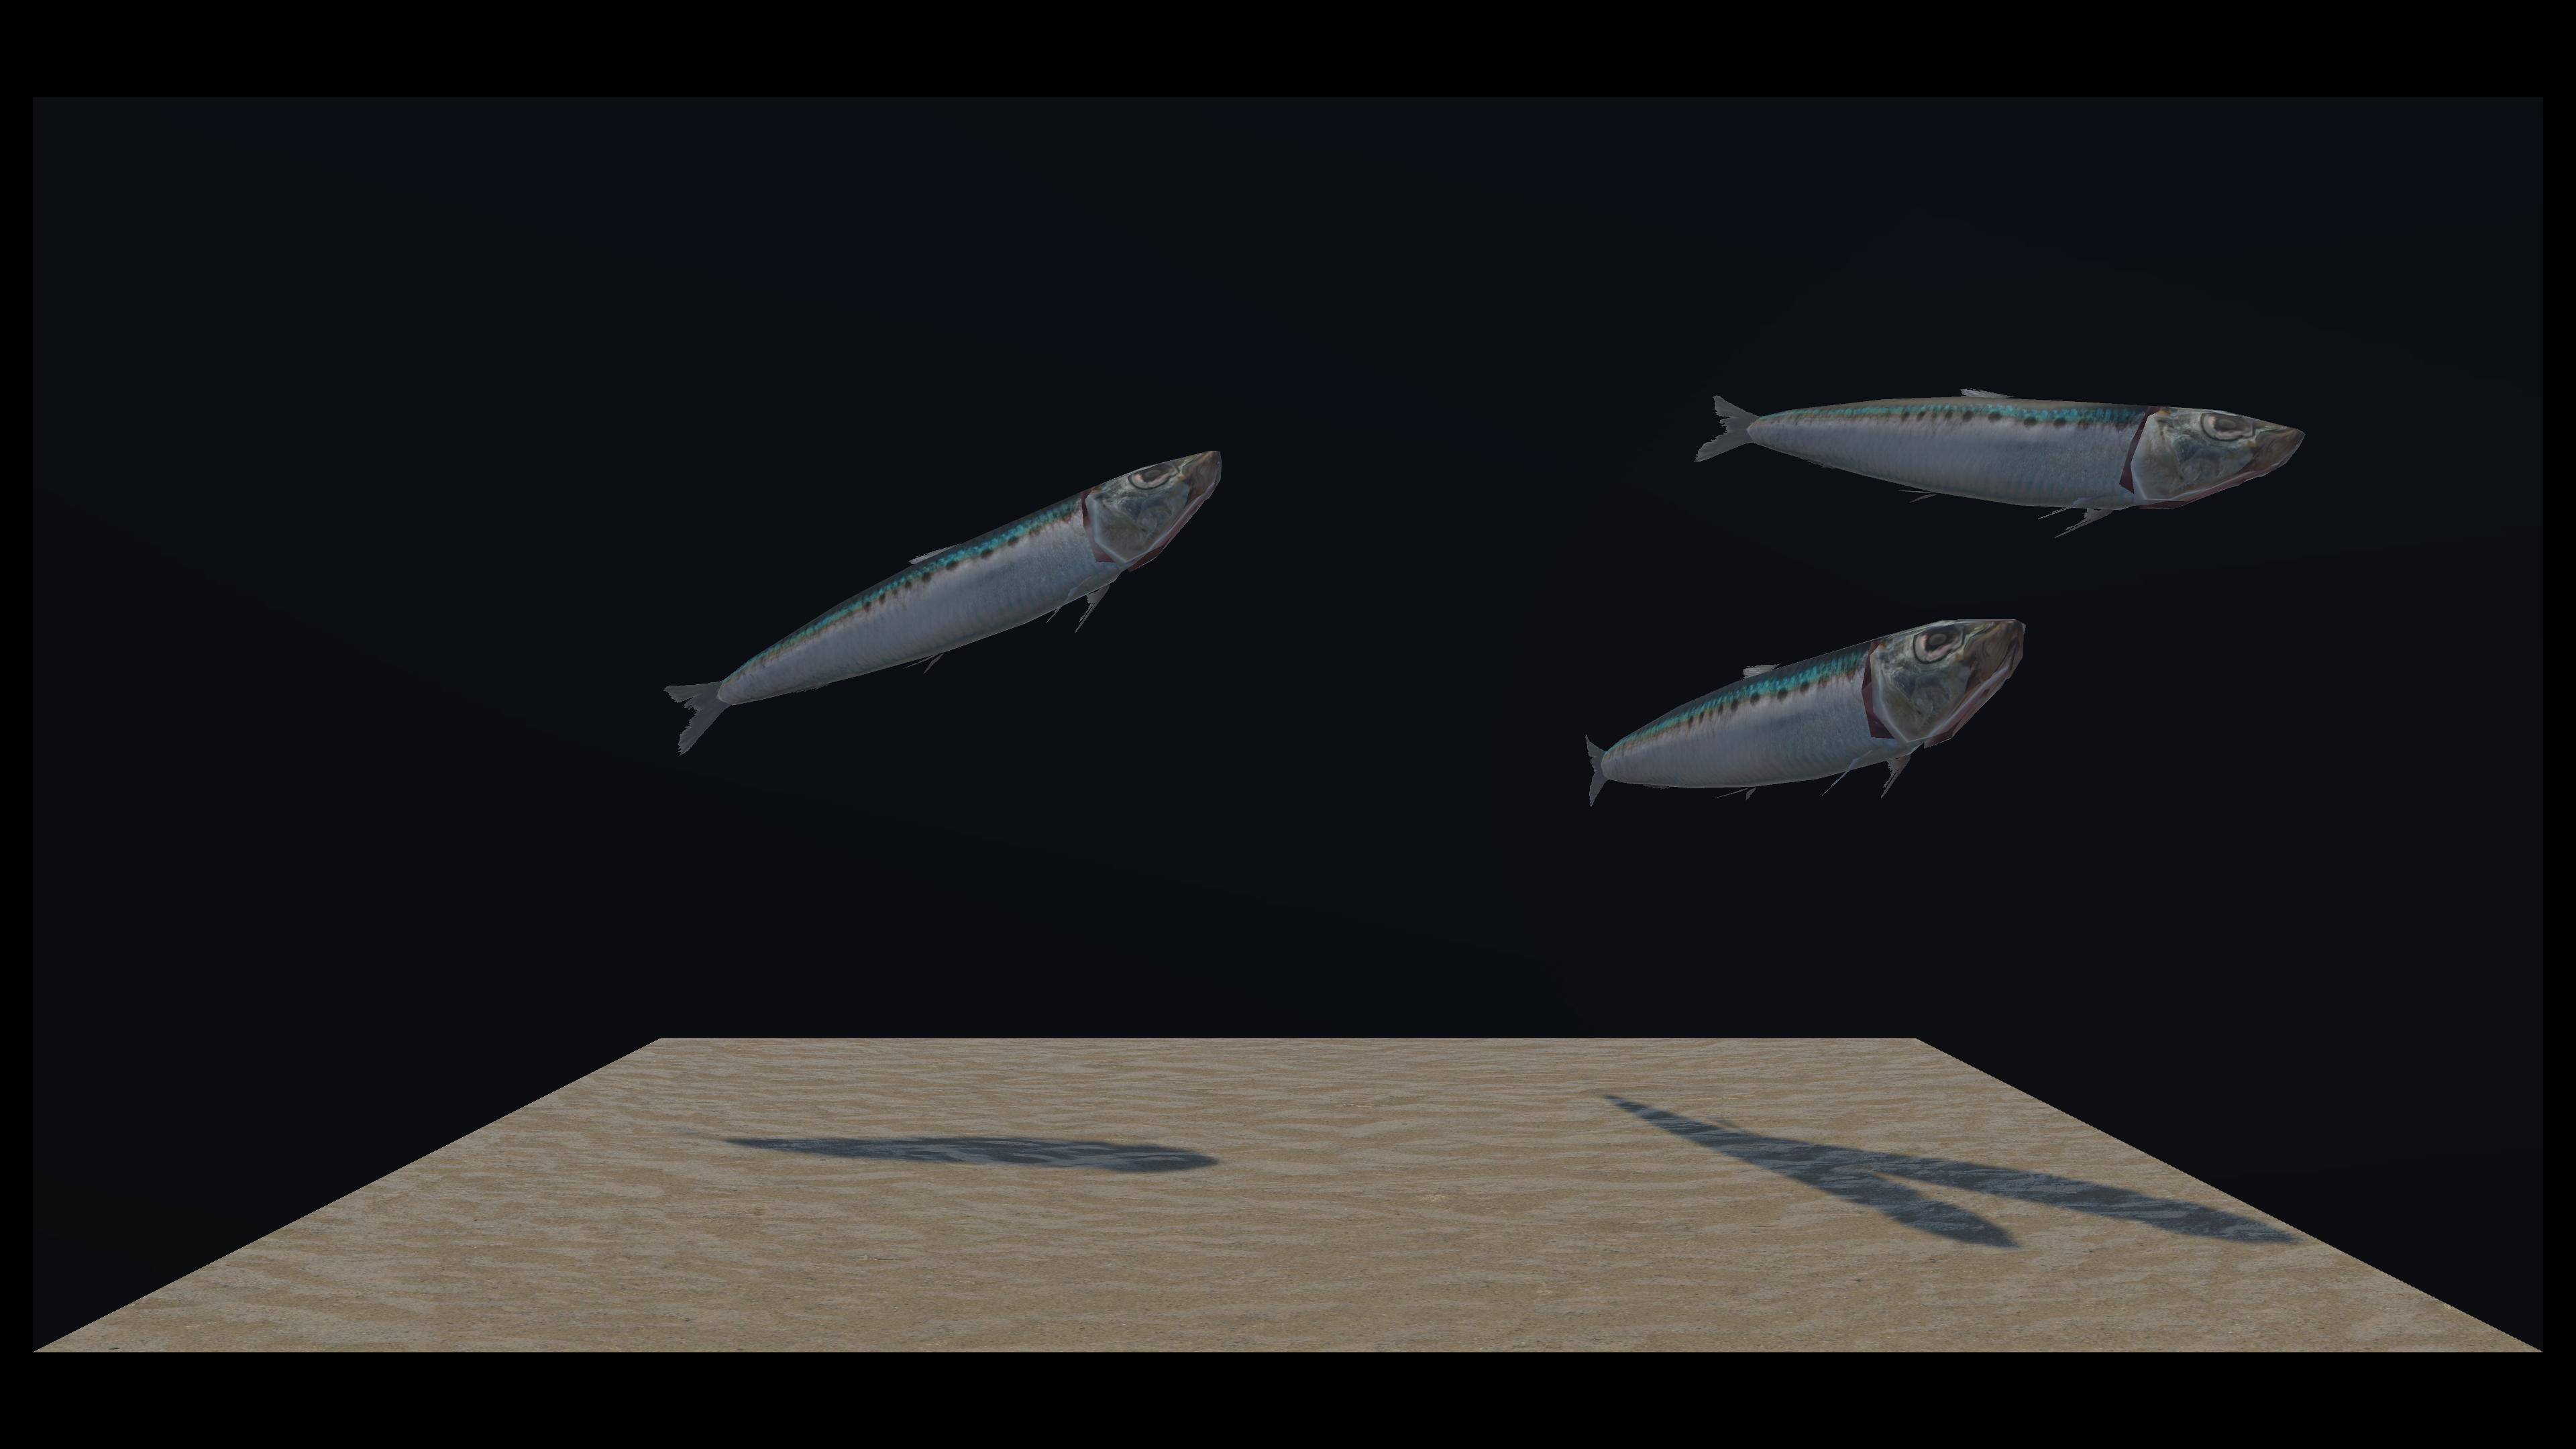Sardine_Front: (736, 511, 2012, 805), (966, 386, 2298, 548), (667, 453, 1212, 754)
